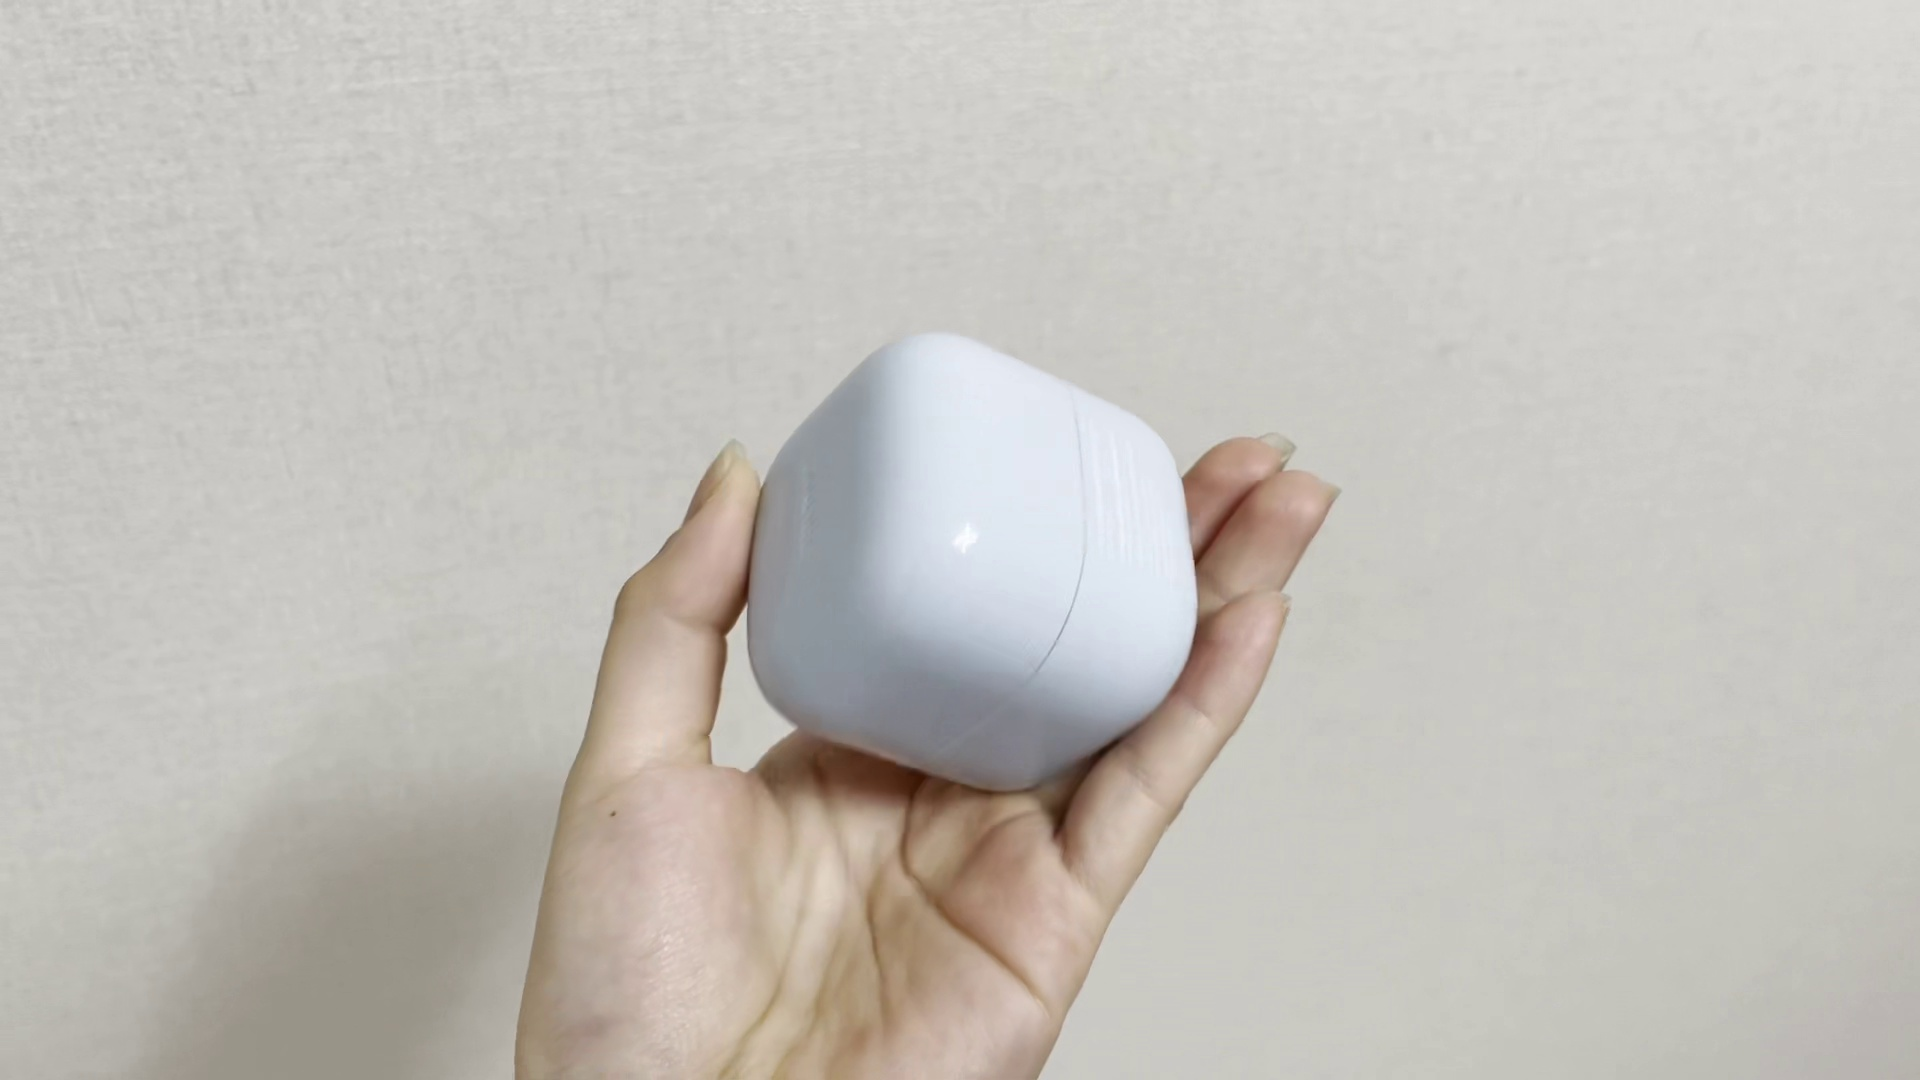cream: (746, 332, 1192, 793)
